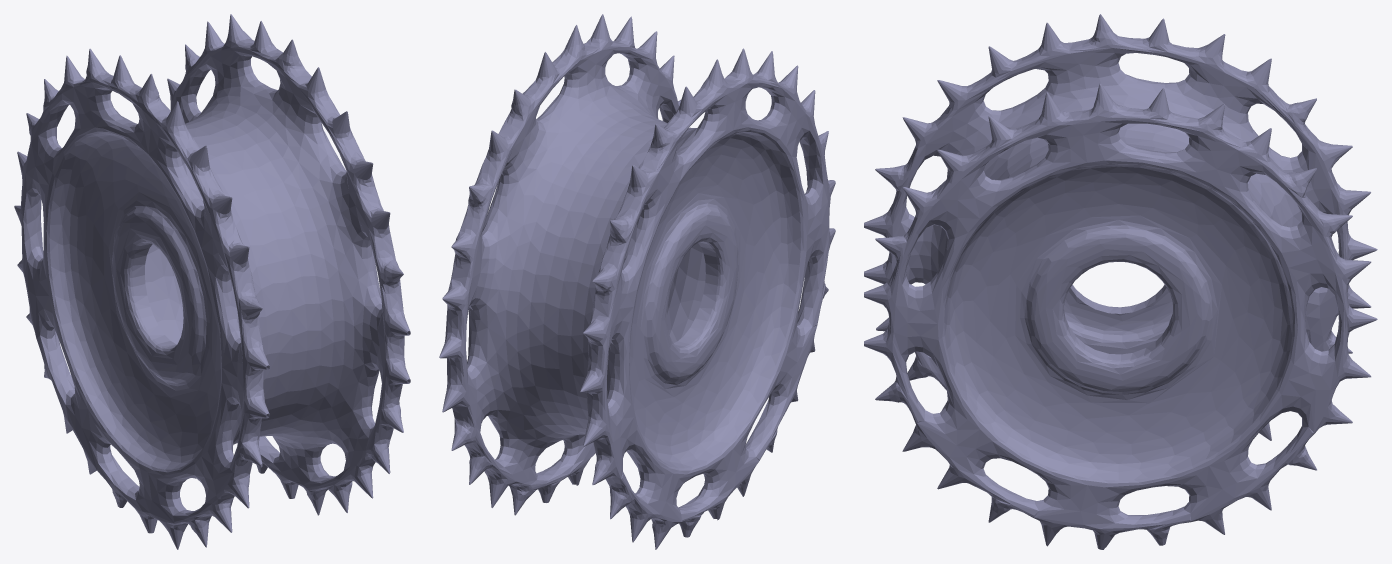
File: sprocket_R_LowPoly.obj
3 views of the same model, side by side, from view 1: azimuth 30°, elevation 25°; view 2: azimuth 150°, elevation 25°; view 3: azimuth 270°, elevation 25° (orthographic).
Parts seen in each view (by area): view 1: sprocket_R_LowPoly\Facets; view 2: sprocket_R_LowPoly\Facets; view 3: sprocket_R_LowPoly\Facets.
Boxes of the visible parts, x1=… form: sprocket_R_LowPoly\Facets: x1=14, y1=14, x2=410, y2=549; sprocket_R_LowPoly\Facets: x1=439, y1=14, x2=835, y2=549; sprocket_R_LowPoly\Facets: x1=864, y1=14, x2=1377, y2=549.
Bounding box in the file's own units: 0.2703 × 0.7411 × 0.7413.
